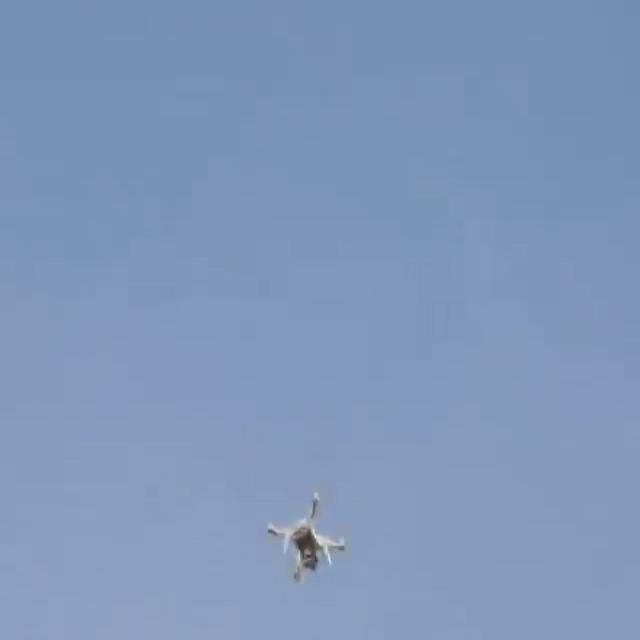drone: (254, 480, 360, 588)
